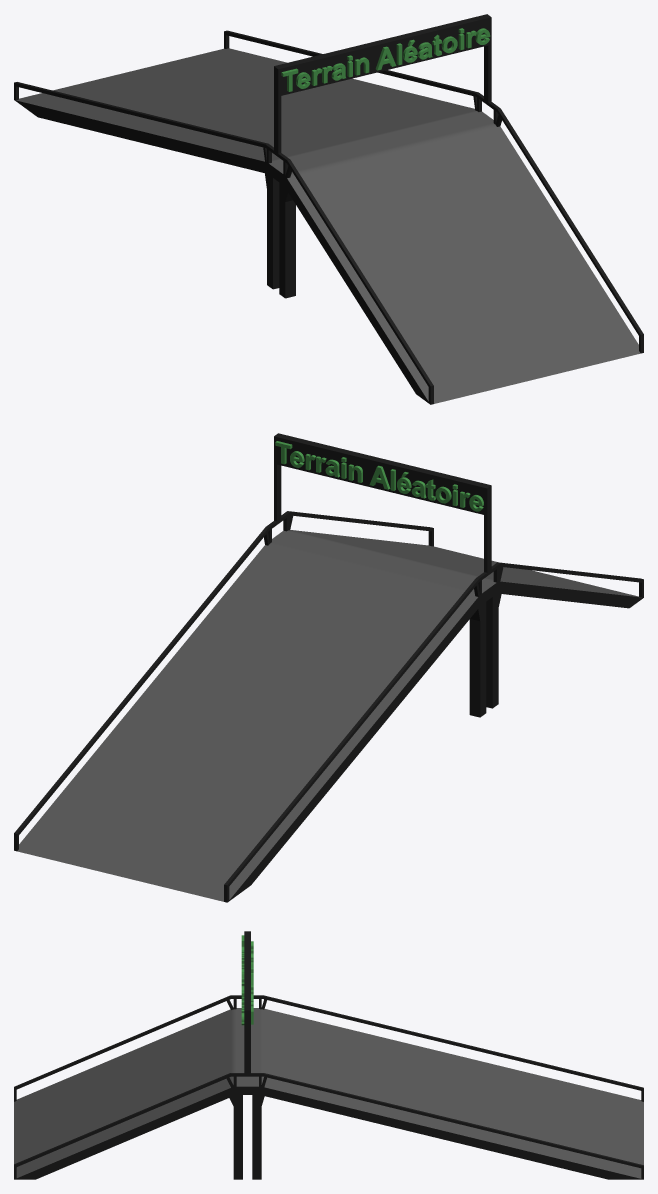
Rendered from Pont Droit 2 v5.fbx.
3 views of the same model, one above another, from view 1: azimuth 30°, elevation 25°; view 2: azimuth 150°, elevation 25°; view 3: azimuth 270°, elevation 25° (orthographic). The views are drawn at different scales.
Parts seen in each view (by area): view 1: Body1; view 2: Body1; view 3: Body1.
Boxes of the visible parts, <box> form: Body1: <box>14,14,643,404</box>; Body1: <box>14,433,643,902</box>; Body1: <box>14,931,643,1179</box>.
Bounding box in the file's own units: 20 × 20.07 × 67.64.
